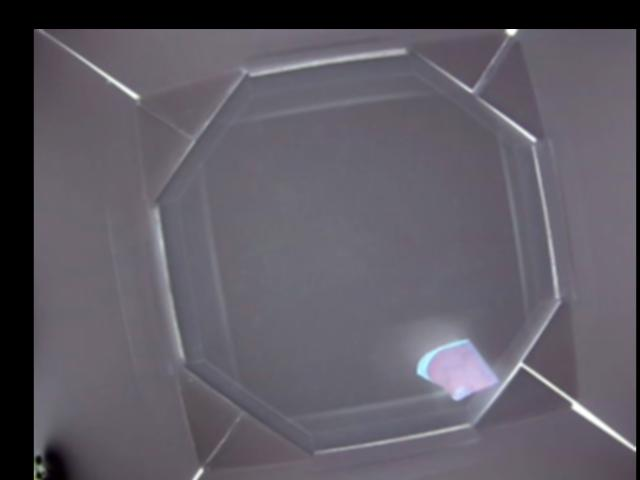China: (415, 337, 501, 399)
